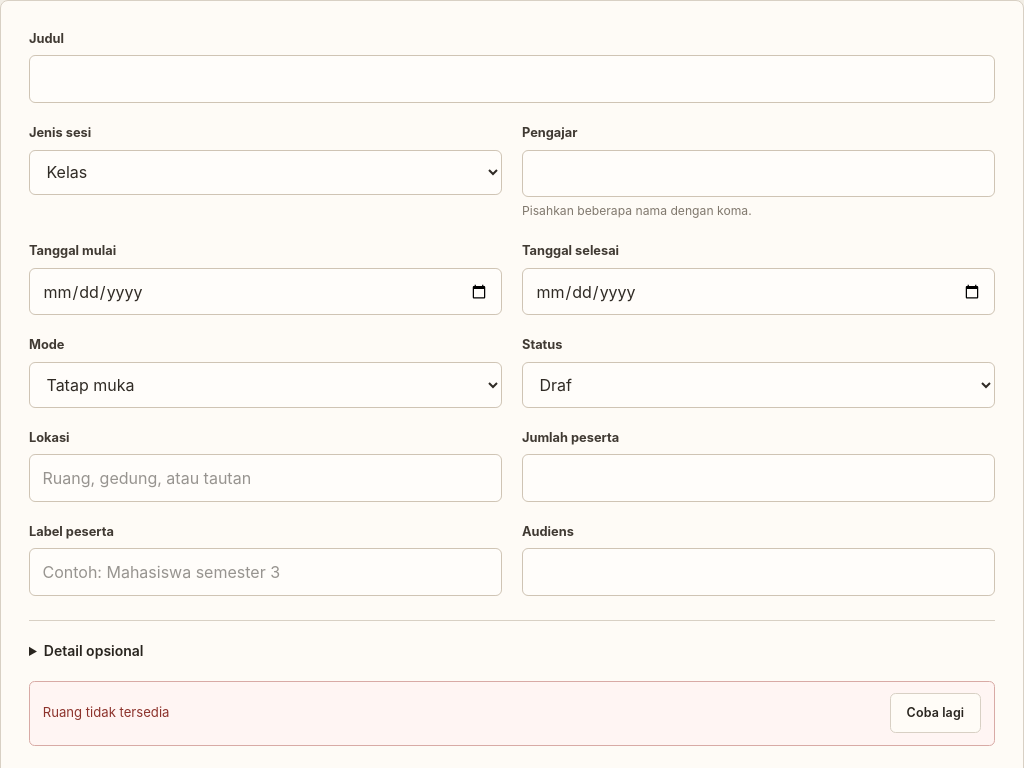
SessionForm › shows a retry action when workspace loading fails
Expected: the message shows "Ruang tidak tersedia", [43,704,169,720]
What coordinates should you click on to do the following:
click the button "Coba lagi"
I would click on:
 (935, 713)
Its box is [890,693,981,733].
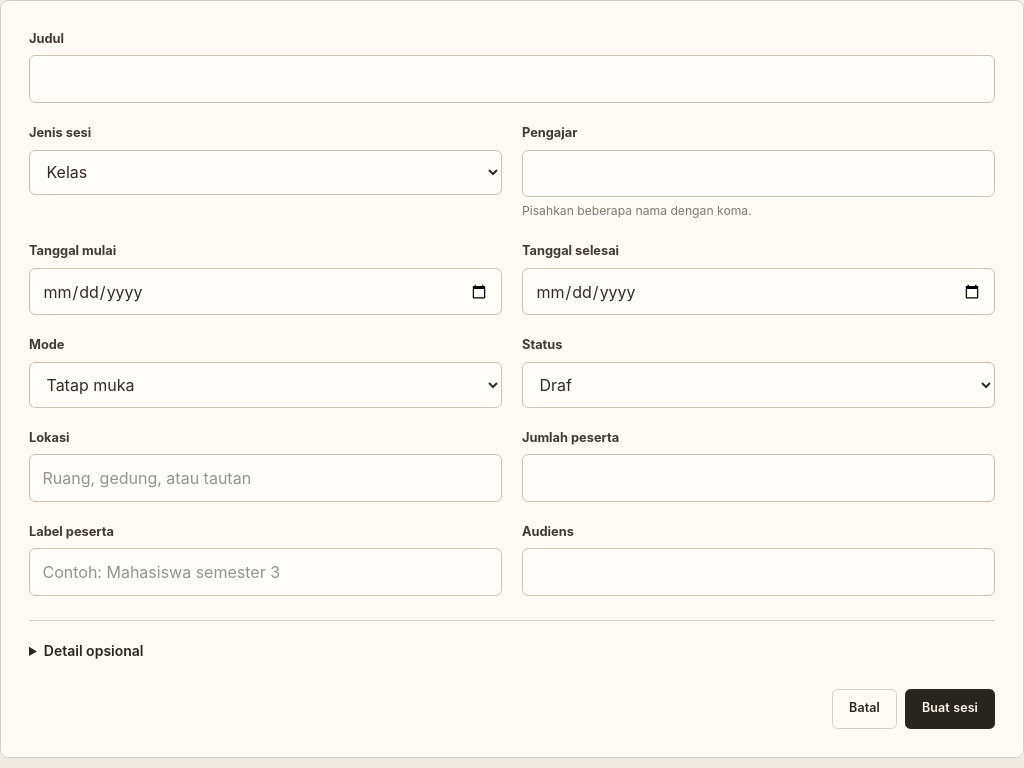
Expected: the button "Buat sesi" is enabled, [905,689,995,729]
